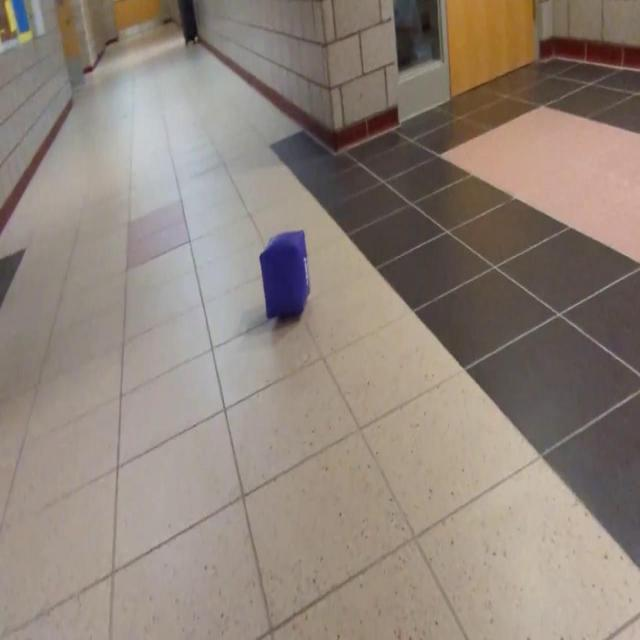frc_cube: (260, 231, 308, 322)
